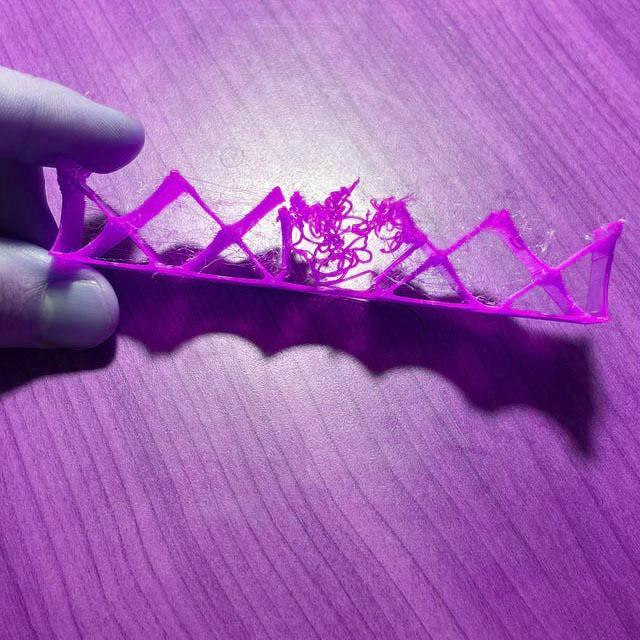Spaghetti: (270, 178, 426, 304)
